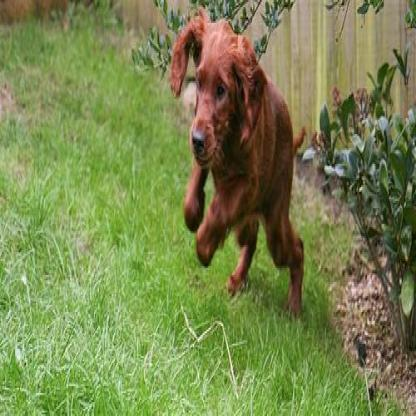Irish_setter: (168, 7, 305, 316)
